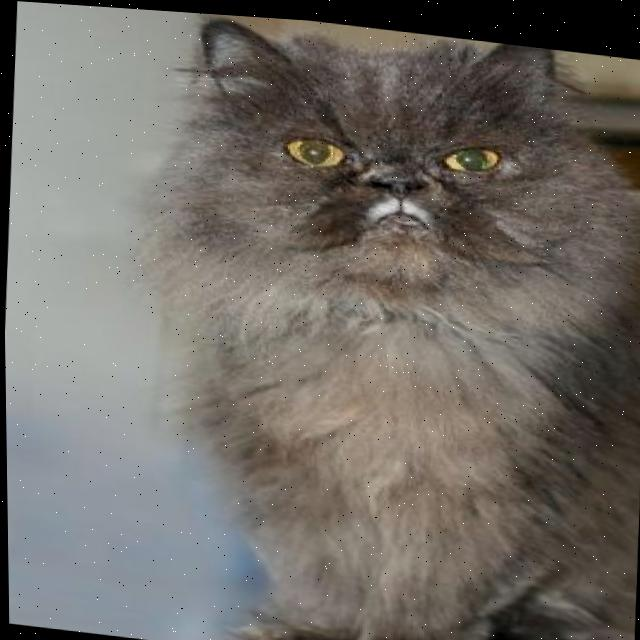Persian: (99, 5, 640, 640)
